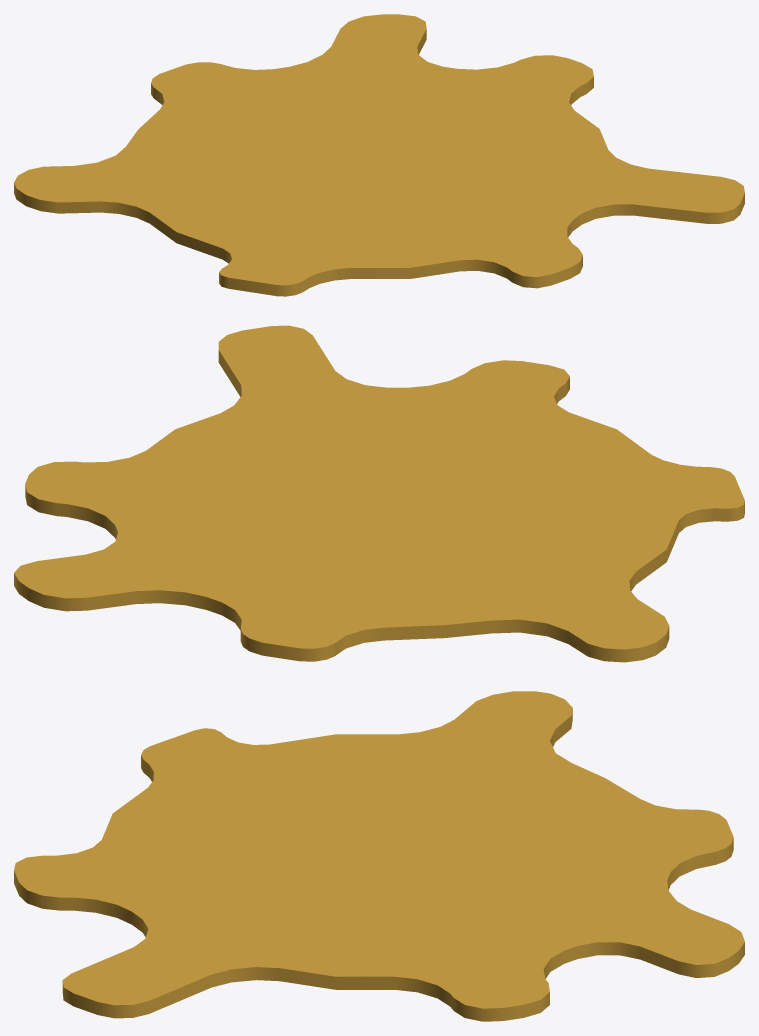
The model's file is Mustard.Splatter.fbx.
3 views of the same model, one above another, from view 1: azimuth 30°, elevation 25°; view 2: azimuth 150°, elevation 25°; view 3: azimuth 270°, elevation 25° (orthographic). The views are drawn at different scales.
Parts seen in each view (by area): view 1: Mustard.Splatter; view 2: Mustard.Splatter; view 3: Mustard.Splatter.
Boxes of the visible parts, x1,y1,x2,y2 form: Mustard.Splatter: [14, 14, 744, 296]; Mustard.Splatter: [14, 325, 744, 662]; Mustard.Splatter: [14, 691, 744, 1021].
Size of the model in its own units: 55.72 by 1.07 by 54.21.
